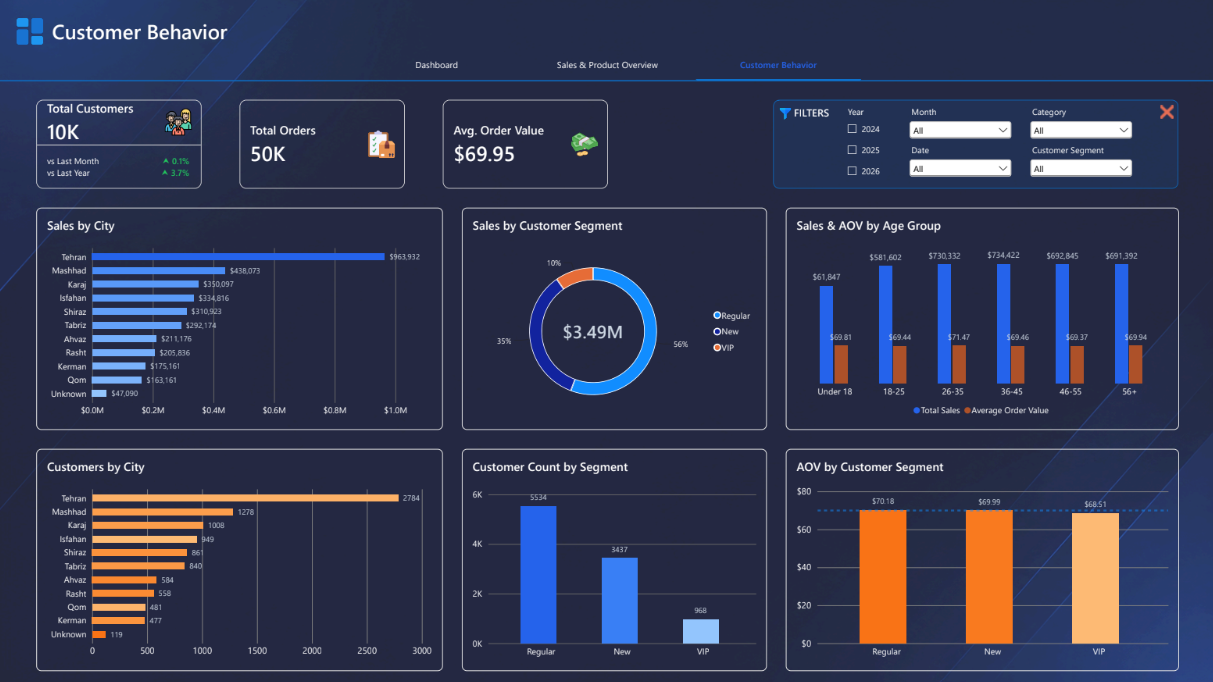

What the dashboard file says about the page in this screenshot:
{"tool":"powerbi","page":{"name":"Customer Behavior","canvas":[1920,1080],"ordinal":2},"visuals":[{"type":"shape","box":[0,0,1920,130],"z":0},{"type":"shape","box":[1220,160,638.3,140],"z":0,"group":"g3"},{"type":"textbox","box":[1252.8,169.4,73.4,36.2],"z":0,"group":"g1"},{"type":"cardVisual","fields":{"Data":["orders.Total Customers"]},"box":[60,160,260,140],"z":1000},{"type":"slicer","fields":{"Values":["Calendar.Year"]},"box":[1330,170,71.5,126.2],"z":1000,"group":"g3"},{"type":"image","box":[1230,173.7,18,18.1],"z":1000,"group":"g1"},{"type":"cardVisual","fields":{"Data":["orders.Average Order Value"]},"box":[700,160,260,140],"z":2000},{"type":"group","id":"g1","title":"Group 2","box":[1230,169.4,95.9,35.9],"z":2000,"group":"g3"},{"type":"slicer","fields":{"Values":["Calendar.MonthName"]},"box":[1430,170,170,55],"z":3000,"group":"g3"},{"type":"donutChart","title":"Sales by Customer Segment","fields":{"Category":["customers.CustomerSegment"],"Y":["orders.Total Sales"]},"box":[730,330,480,350],"z":3000},{"type":"slicer","fields":{"Values":["Calendar.Year","Calendar.MonthName","Calendar.Date"]},"box":[1430,230,170,55],"z":4000,"group":"g3"},{"type":"columnChart","title":"AOV by Customer Segment","fields":{"Category":["customers.CustomerSegment"],"Y":["orders.Average Order Value"]},"box":[1240,710,618.8,350],"z":4000},{"type":"pageNavigator","box":[560,80,800,50],"z":5000},{"type":"slicer","fields":{"Values":["customers.CustomerSegment"]},"box":[1620,230,170,55],"z":5000,"group":"g3"},{"type":"group","id":"g2","title":"Group 1","box":[30,30,605,43],"z":6000},{"type":"slicer","fields":{"Values":["products.Category"]},"box":[1619.6,169.6,170,55],"z":6000,"group":"g3"},{"type":"group","id":"g3","title":"Group 3","box":[1220,150,640,150],"z":7000},{"type":"cardVisual","fields":{"Data":["orders.Total Orders"]},"box":[380,160,260,140],"z":8000},{"type":"columnChart","title":"Customer Count by Segment","fields":{"Category":["customers.CustomerSegment"],"Y":["orders.Total Customers"]},"box":[730,710,480,350],"z":9000},{"type":"clusteredBarChart","title":"Sales by City","fields":{"Category":["customers.City"],"Y":["orders.Total Sales"]},"box":[60,330,640,350],"z":10000},{"type":"textbox","box":[85,30,550,43],"z":11000,"group":"g2"},{"type":"clusteredColumnChart","title":"Sales & AOV by Age Group","fields":{"Category":["customers.Age Group"],"Y":["orders.Total Sales","orders.Average Order Value"]},"box":[1240,330,618.8,350],"z":11000},{"type":"barChart","title":"Customers by City","fields":{"Category":["customers.City"],"Y":["orders.Total Customers"]},"box":[60,710,640,350],"z":12000},{"type":"image","box":[30,32,40,40],"z":13000,"group":"g2"},{"type":"actionButton","box":[1820,150,40,59.1],"z":14000,"group":"g3"}]}

Visuals, with their boxes in screenshot pixels (x1, y1, x2, y2), scaled from the page's 1920x1080 canvas onto the 1213x682 screenshot:
shape: region(0, 0, 1212, 82)
shape: region(771, 101, 1174, 189)
textbox: region(791, 107, 838, 130)
cardVisual - orders.Total Customers: region(38, 101, 202, 189)
slicer - Calendar.Year: region(840, 107, 885, 187)
image: region(777, 110, 788, 121)
cardVisual - orders.Average Order Value: region(442, 101, 606, 189)
"Group 2" group: region(777, 107, 838, 130)
slicer - Calendar.MonthName: region(903, 107, 1011, 142)
"Sales by Customer Segment" donutChart: region(461, 208, 764, 429)
slicer - Calendar.Year x Calendar.MonthName: region(903, 145, 1011, 180)
"AOV by Customer Segment" columnChart: region(783, 448, 1174, 669)
pageNavigator: region(354, 51, 859, 82)
slicer - customers.CustomerSegment: region(1023, 145, 1131, 180)
"Group 1" group: region(19, 19, 401, 46)
slicer - products.Category: region(1023, 107, 1131, 142)
"Group 3" group: region(771, 95, 1175, 189)
cardVisual - orders.Total Orders: region(240, 101, 404, 189)
"Customer Count by Segment" columnChart: region(461, 448, 764, 669)
"Sales by City" clusteredBarChart: region(38, 208, 442, 429)
textbox: region(54, 19, 401, 46)
"Sales & AOV by Age Group" clusteredColumnChart: region(783, 208, 1174, 429)
"Customers by City" barChart: region(38, 448, 442, 669)
image: region(19, 20, 44, 45)
actionButton: region(1150, 95, 1175, 132)
